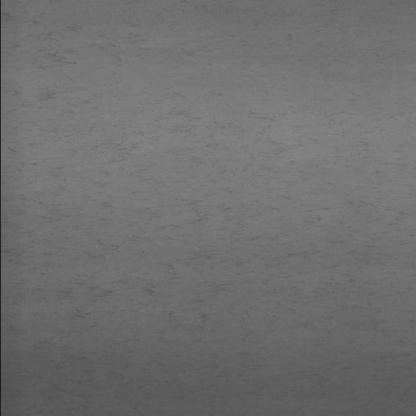silk_spot: (5, 117, 280, 330)
